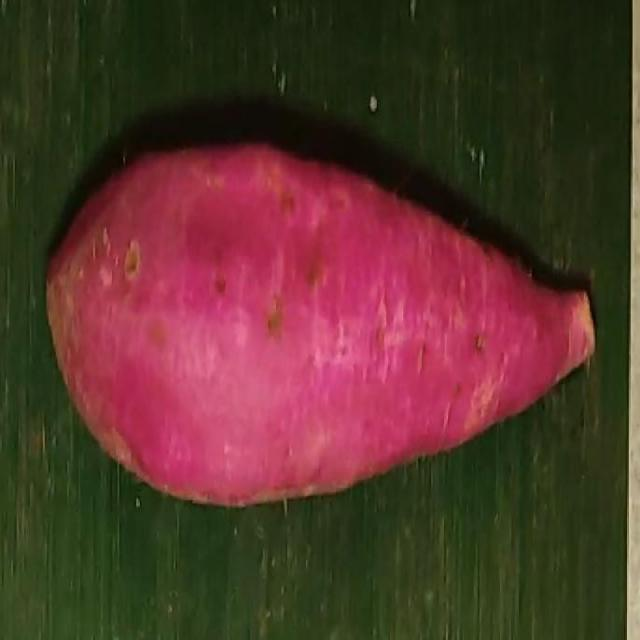Sweet Potato: (48, 143, 594, 511)
